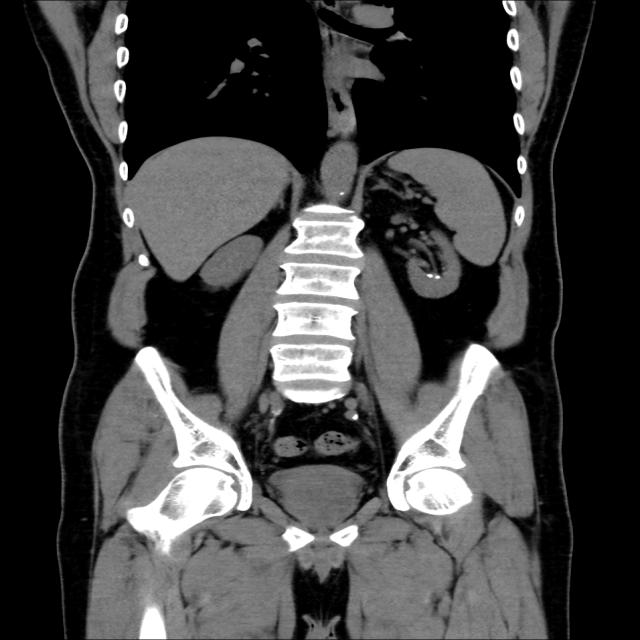kidneystone: (425, 274, 441, 279)
